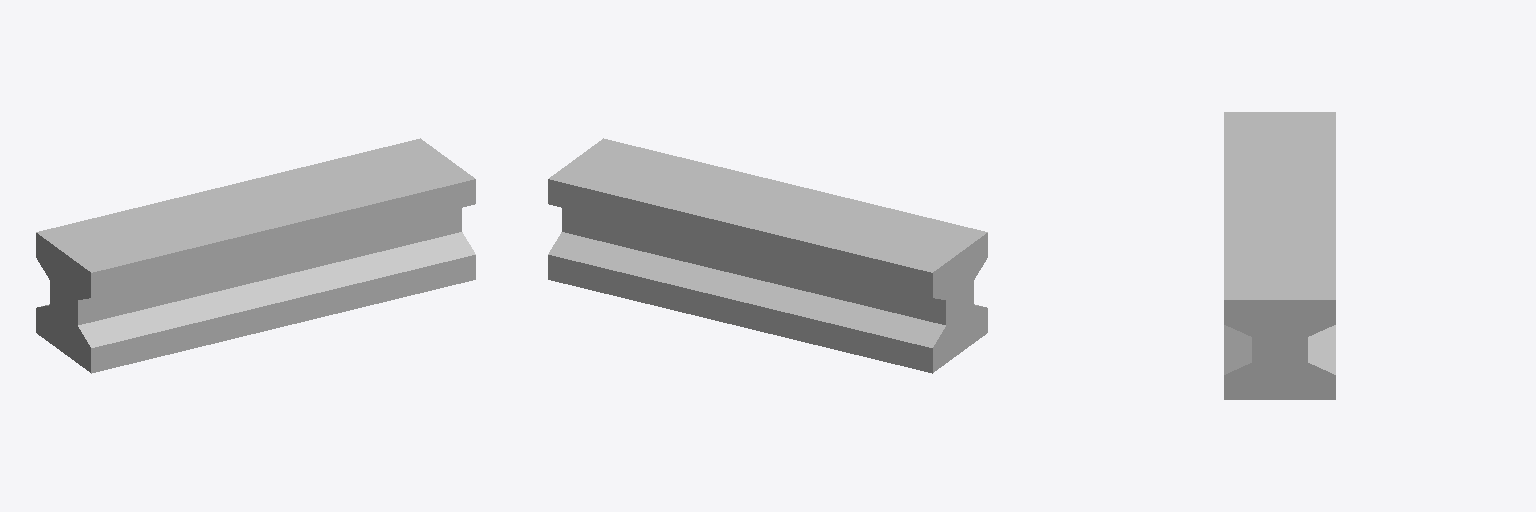
The model's file is 0DegPlatform.obj.
3 views of the same model, side by side, from view 1: azimuth 30°, elevation 25°; view 2: azimuth 150°, elevation 25°; view 3: azimuth 270°, elevation 25° (orthographic).
Size of the model in its own units: 8 by 2 by 2.